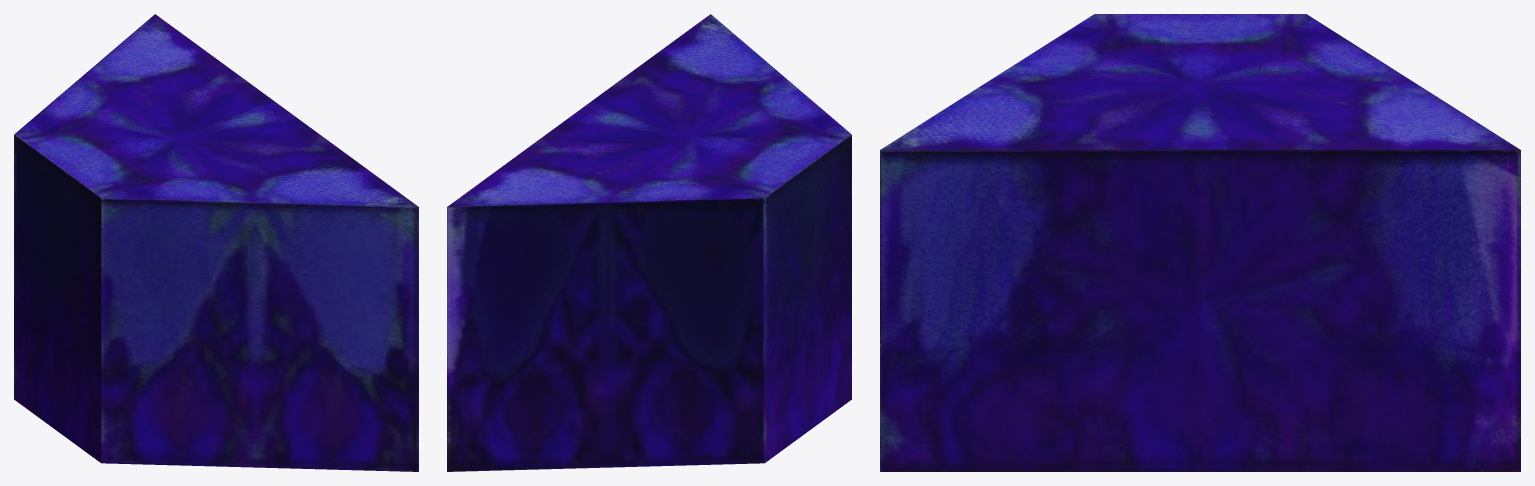
File: quadri_right_cible_lvl_4.glb
3 views of the same model, side by side, from view 1: azimuth 30°, elevation 25°; view 2: azimuth 150°, elevation 25°; view 3: azimuth 270°, elevation 25° (orthographic). The views are drawn at different scales.
Visible parts, largest first — view 1: Mesh_0.002; view 2: Mesh_0.002; view 3: Mesh_0.002.
Boxes of the visible parts, <box> form: Mesh_0.002: <box>14,14,418,471</box>; Mesh_0.002: <box>447,14,851,471</box>; Mesh_0.002: <box>880,14,1520,471</box>.
Bounding box in the file's own units: 0.0778 × 0.0859 × 0.1548.
1 material, 1 textured.
